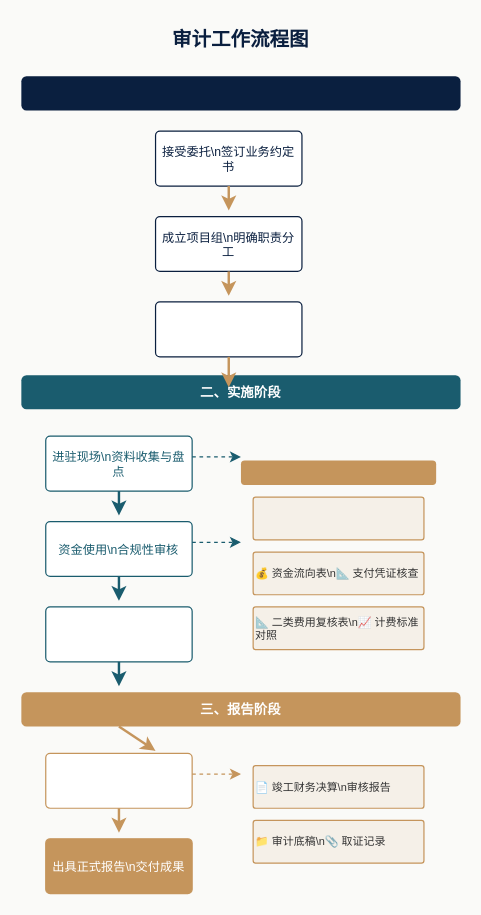
The diagram is 481 pixels wide and 915 high, and some of its shapes have lost their labels. The shapes that lost their labels are listed below. From the top down, each one's centre as x and y in pixels, then its label:
At point 240,93: "一、准备阶段".
At point 228,329: "制定审计方案\n下发资料清单".
At point 338,472: "主 要 输 出 成 果".
At point 338,518: "📋 资料清单\n📊 盘点记录表".
At point 118,634: "二类费用\n计费标准复核".
At point 118,780: "编制审核报告\n三级复核".
